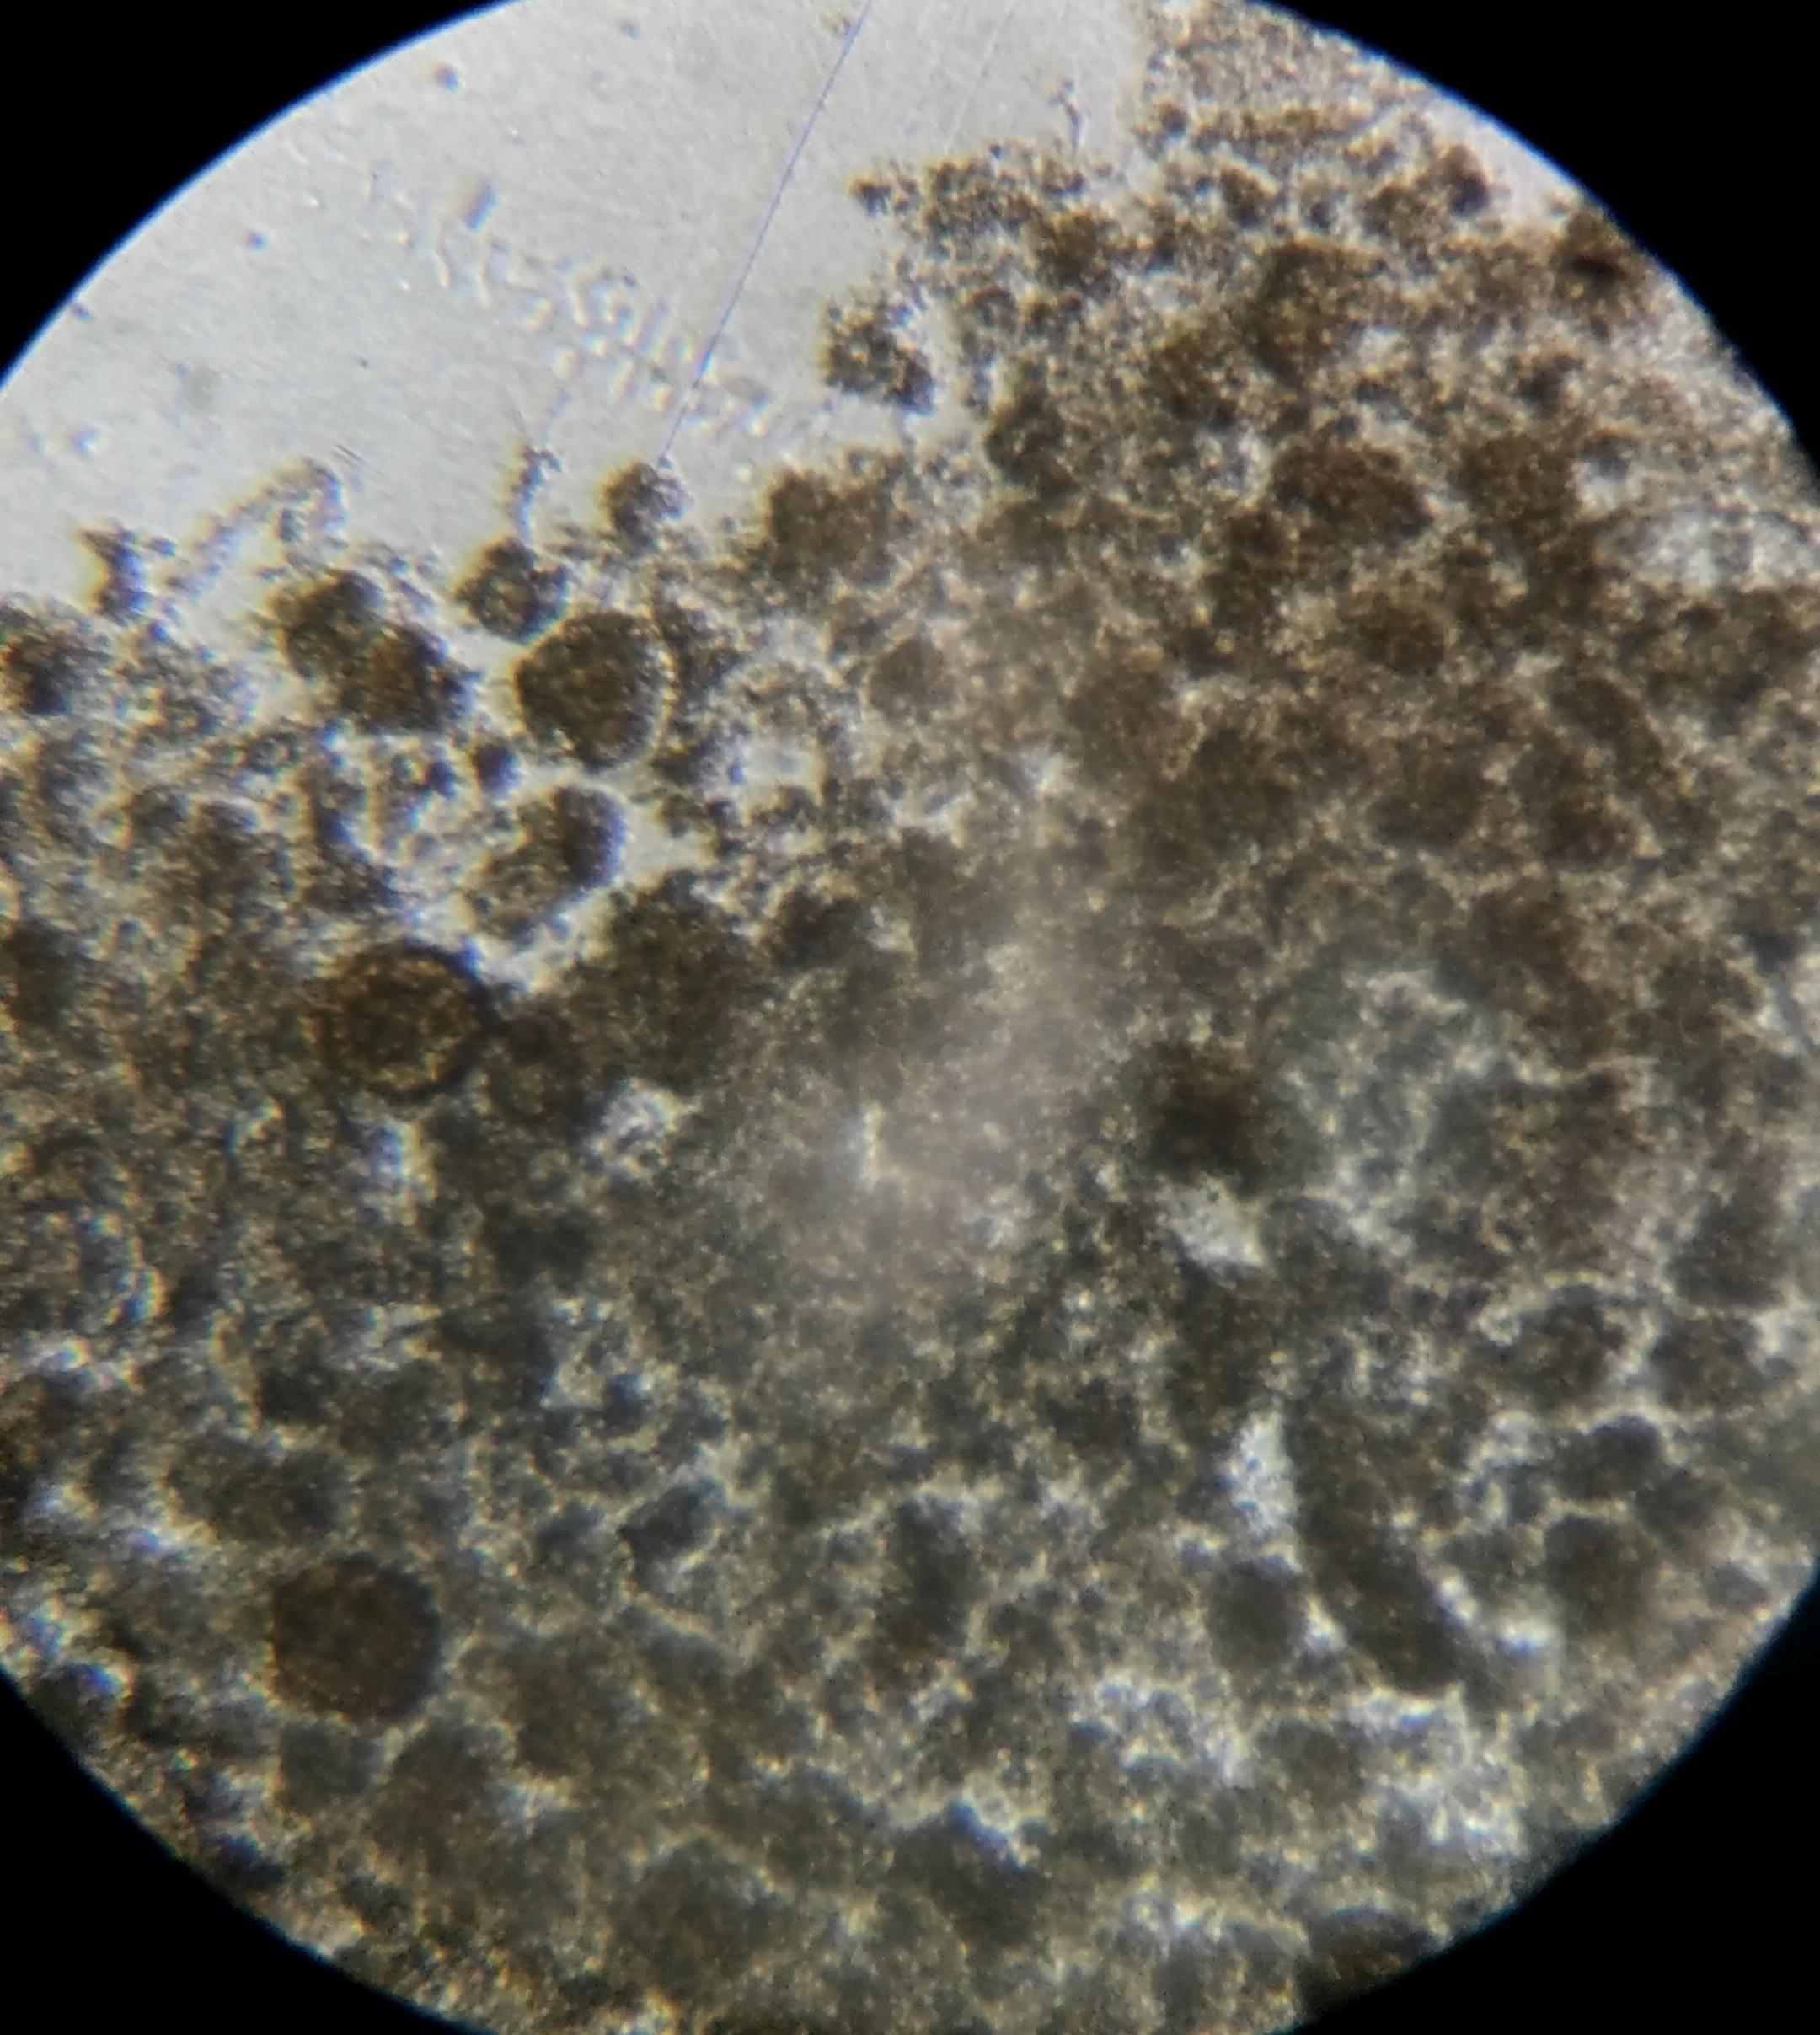Arcella: (274, 1562, 432, 1717), (325, 945, 485, 1097)
